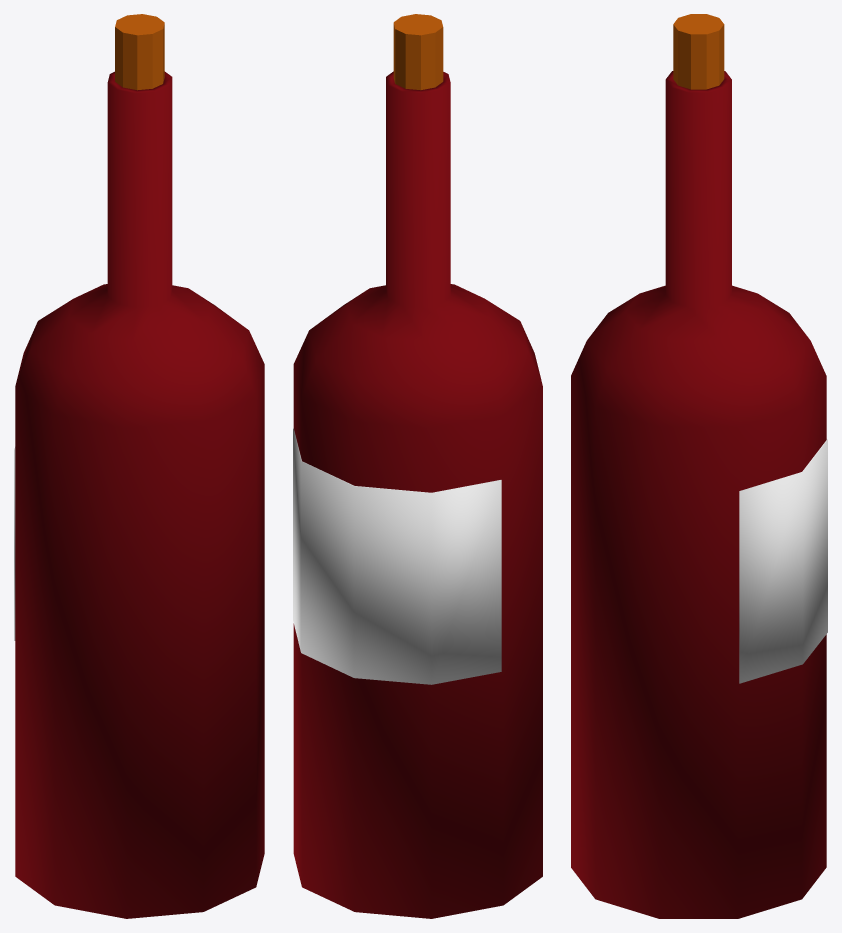
File: WineBottle.fbx
3 views of the same model, side by side, from view 1: azimuth 30°, elevation 25°; view 2: azimuth 150°, elevation 25°; view 3: azimuth 270°, elevation 25° (orthographic).
Visible parts, largest first — view 1: WineBottle; view 2: WineBottle; view 3: WineBottle.
Boxes of the visible parts, bbox=[...] form: WineBottle: bbox=[14, 14, 264, 918]; WineBottle: bbox=[293, 14, 542, 918]; WineBottle: bbox=[571, 14, 827, 918].
Size of the model in its own units: 62.5 by 239 by 66.09.
